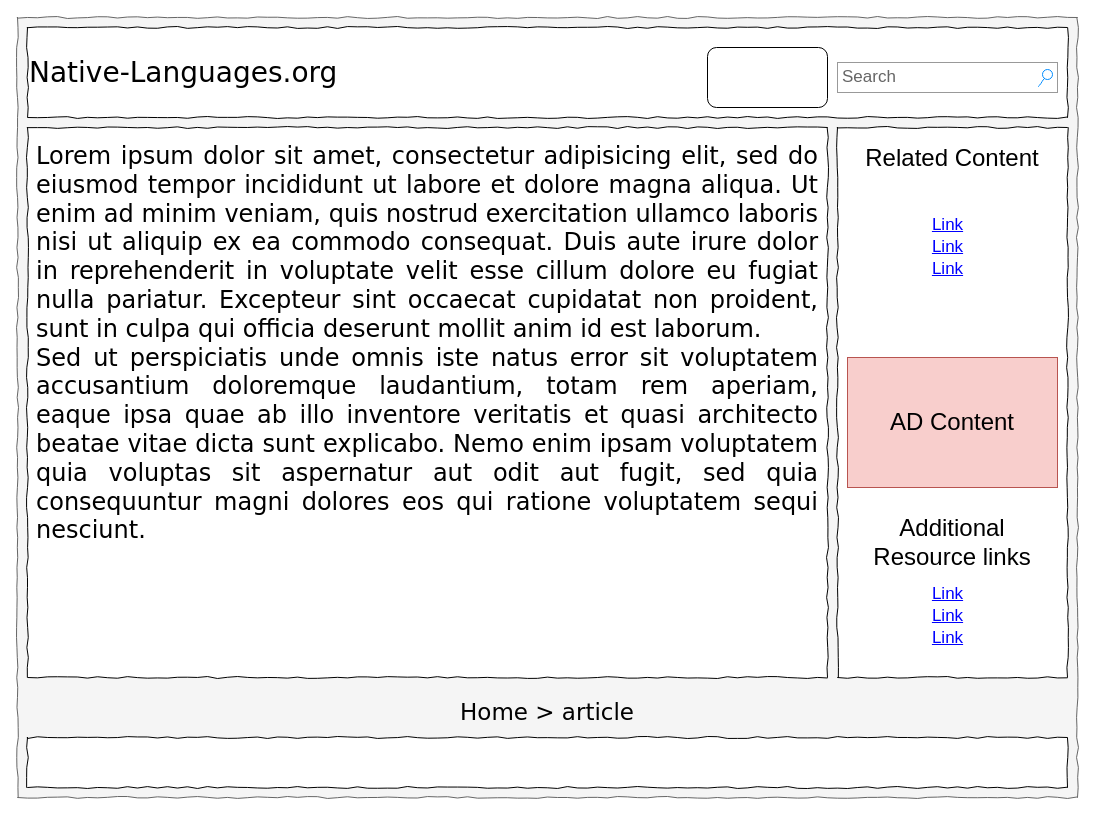
The diagram is 1095 pixels wide and 815 high, and some of its shapes have lost their labels. The shapes that lost their labels are listed below. From the top down, each one's centre as x and y in pixels, then its label:
At pixel 767 77: "Catergories".
At pixel 547 762: "Footer".
